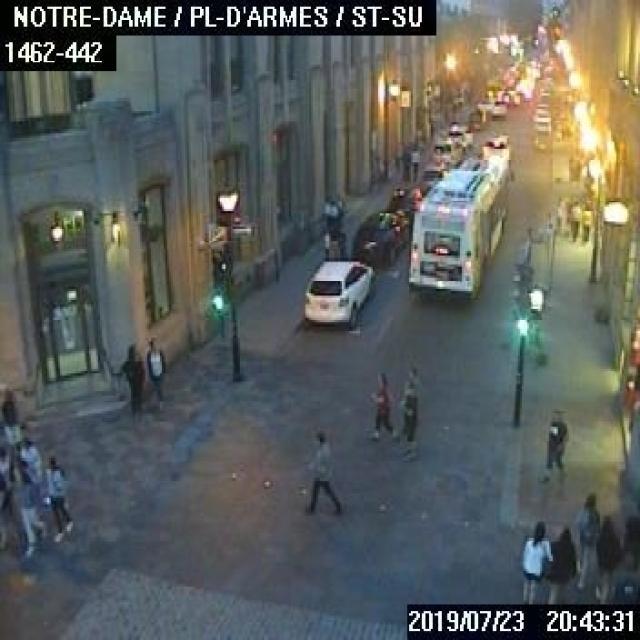bus: (404, 156, 511, 295)
pedestrian: (302, 431, 342, 516), (10, 465, 42, 554), (519, 518, 548, 602), (44, 454, 71, 539), (574, 489, 596, 584), (538, 409, 566, 480), (549, 523, 573, 602), (618, 510, 638, 600), (595, 510, 615, 600), (144, 333, 167, 407), (0, 387, 22, 462), (370, 369, 392, 444), (122, 335, 144, 409), (397, 367, 418, 442), (0, 463, 18, 550), (18, 436, 42, 476), (569, 202, 580, 240), (581, 201, 590, 241)
vehicle: (301, 258, 373, 322), (351, 203, 409, 264), (385, 180, 418, 210), (431, 132, 460, 164), (482, 132, 508, 160), (418, 164, 442, 192), (448, 121, 472, 146), (531, 114, 551, 131), (491, 98, 507, 116), (533, 101, 549, 115)
